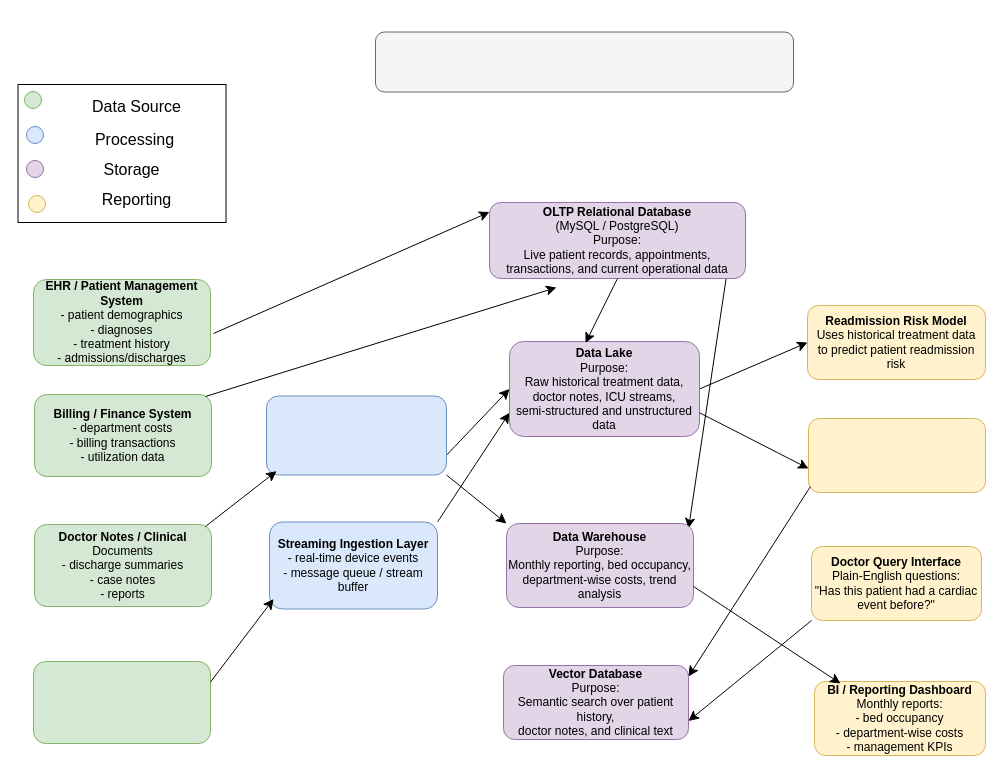
The diagram is 1003 pixels wide and 773 high, and some of its shapes have lost their labels. The shapes that lost their labels are listed below. From the top down, each one's centre as x and y in pixels, then its label:
At pixel 584 61: "Hospital Management Systems".
At pixel 356 435: "ETL / ELT Pipeline - clean - transform - standardize - load".
At pixel 897 455: "Embedding Model Converts patient notes/history into vectors for semantic search".
At pixel 121 702: "ICU Monitoring Devices - heart rate - oxygen - blood pressure - streaming vitals".
